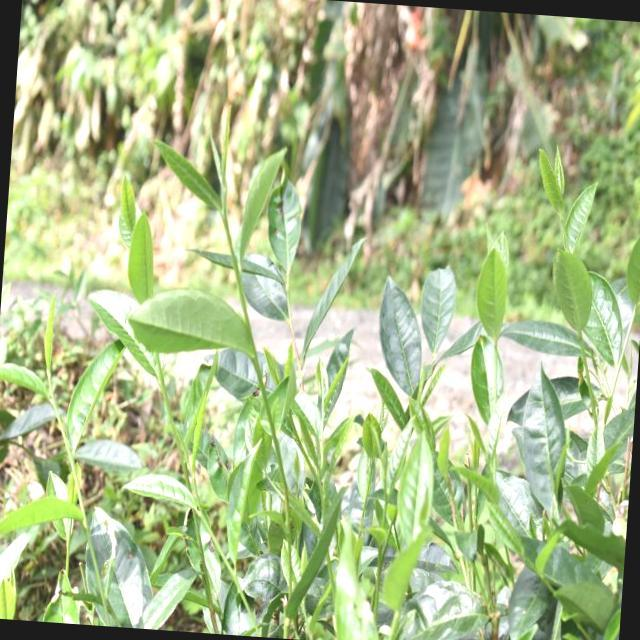Stem: (221, 214, 227, 222)
